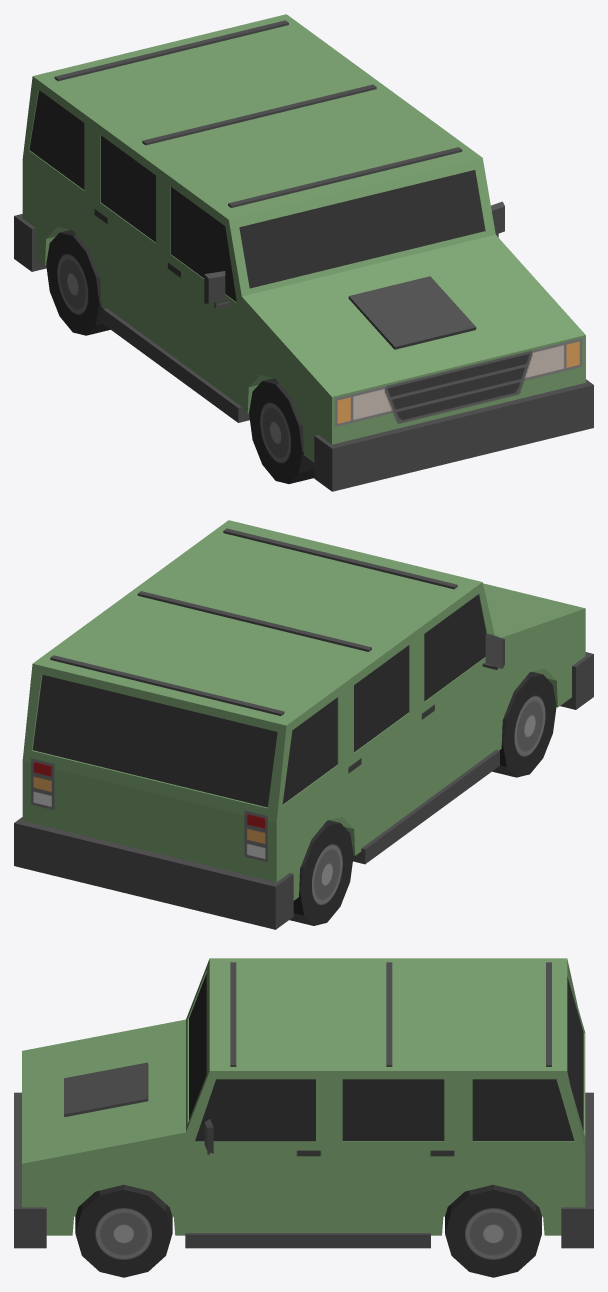
File: suv.gltf
The picture shows the model from 3 angles, top to bottom: view 1: azimuth 30°, elevation 25°; view 2: azimuth 150°, elevation 25°; view 3: azimuth 270°, elevation 25°; orthographic projection. The views are drawn at different scales.
Visible parts, largest first — view 1: suv_v1; view 2: suv_v1; view 3: suv_v1.
Part boxes in pixels (x1,y1,x2,y2): suv_v1: [14, 14, 593, 491]; suv_v1: [14, 520, 593, 929]; suv_v1: [14, 958, 593, 1277].
Size of the model in its own units: 3.1 by 2.27 by 5.73.
1 material, 1 textured.
